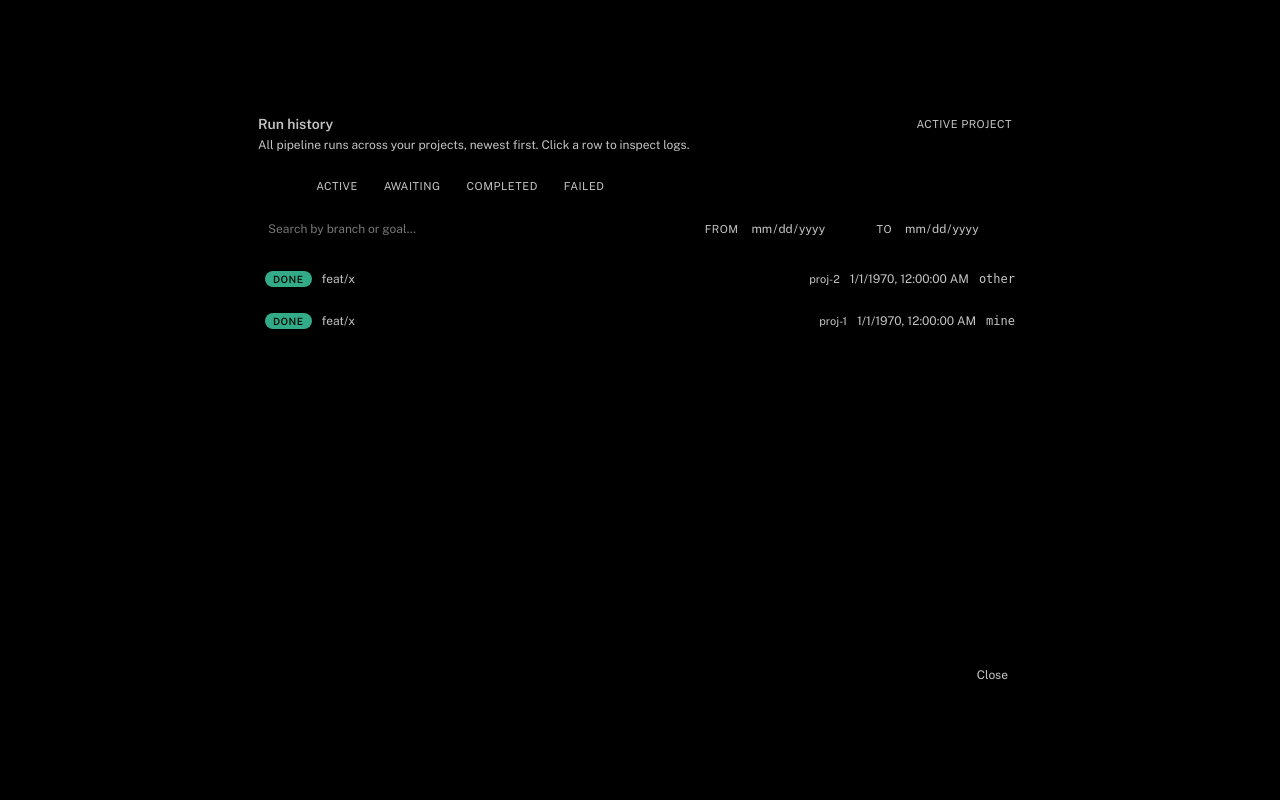
Scenario: RunHistoryPanel › toggling to Active project narrows back to the current project
Expected: the number of buttons with test id "run-history-row" is 2, [252,260,1028,298]; [252,302,1028,340]
Click the tab with test id "run-history-scope-active".
click(964, 124)  # box [906,114,1022,134]
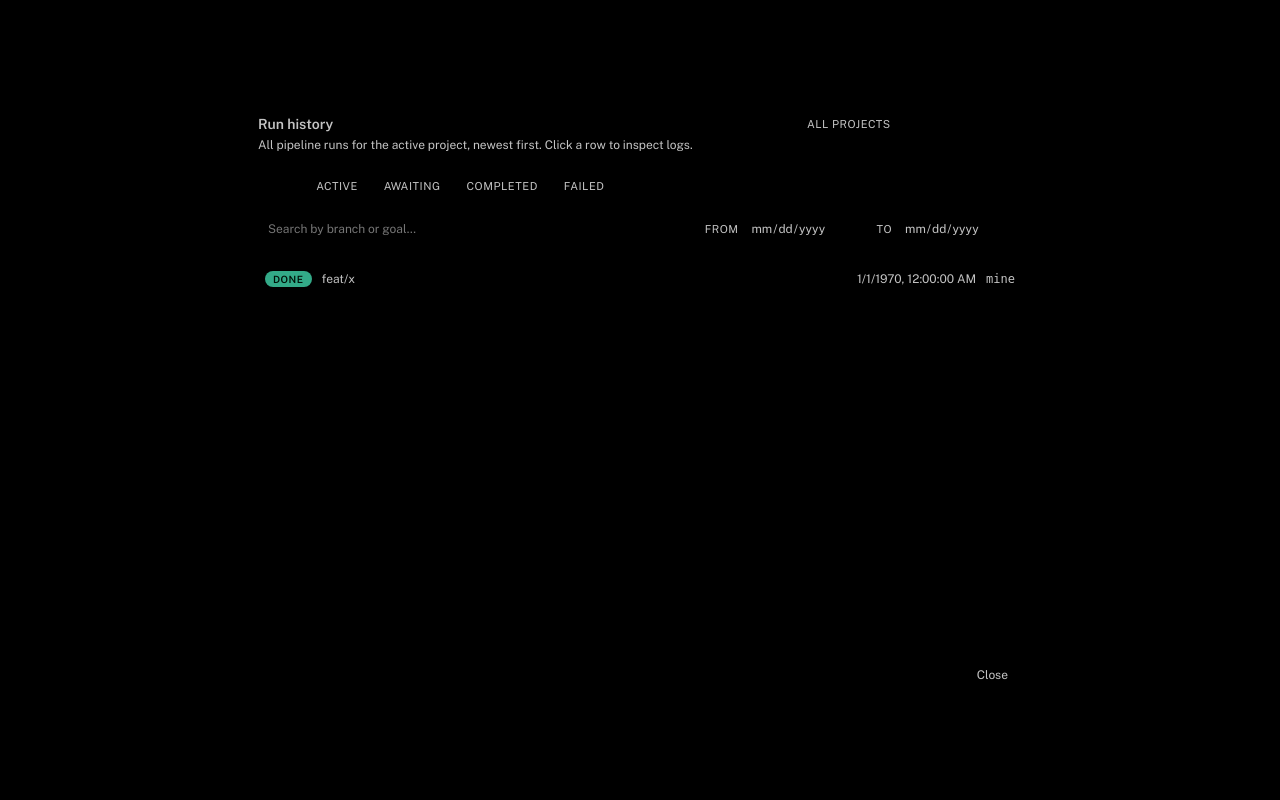
Result: the number of buttons with test id "run-history-row" is 1 at [252,260,1028,298]
